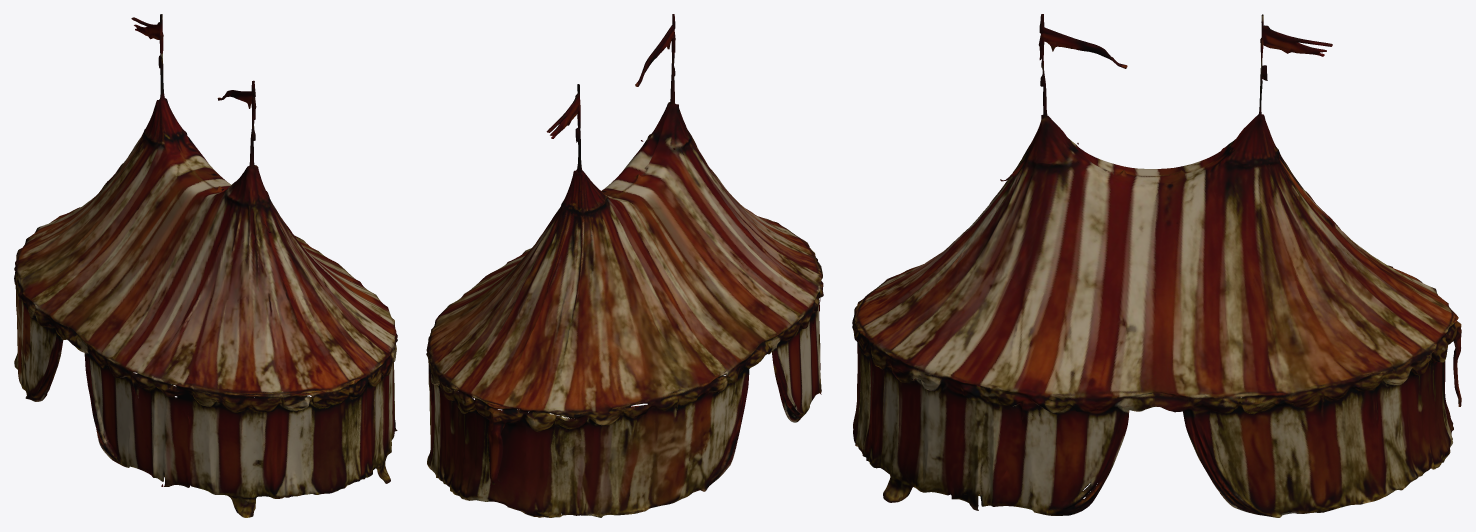
Rendered from Circus.fbx.
The picture shows the model from 3 angles, left to right: view 1: azimuth 30°, elevation 25°; view 2: azimuth 150°, elevation 25°; view 3: azimuth 270°, elevation 25°; orthographic projection. The views are drawn at different scales.
Parts seen in each view (by area): view 1: tripo_node_f583e44f; view 2: tripo_node_f583e44f; view 3: tripo_node_f583e44f.
Boxes of the visible parts, <box> form: tripo_node_f583e44f: <box>14,14,397,517</box>; tripo_node_f583e44f: <box>426,14,823,517</box>; tripo_node_f583e44f: <box>852,14,1461,517</box>.
Bounding box in the file's own units: 0.6248 × 0.8075 × 1.
1 material, 1 textured.
